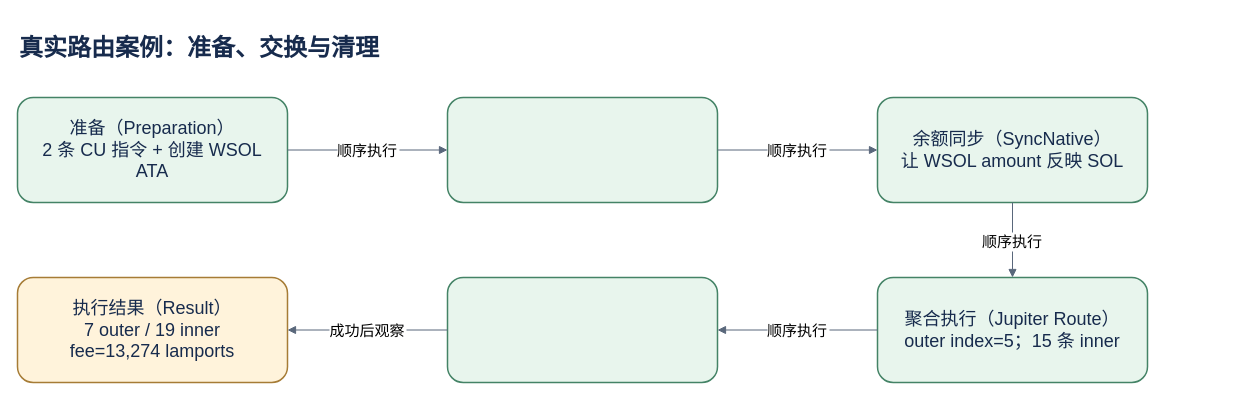
The diagram is 1235 pixels wide and 400 high, and some of its shapes have lost their labels. The centre of each missing label's shape, as x and y in pixels:
"SOL 转入（Funding） 20,000,000 lamports" goes at [582,149].
"账户清理（Close Account） 关闭临时 WSOL 账户" goes at [582,329].
